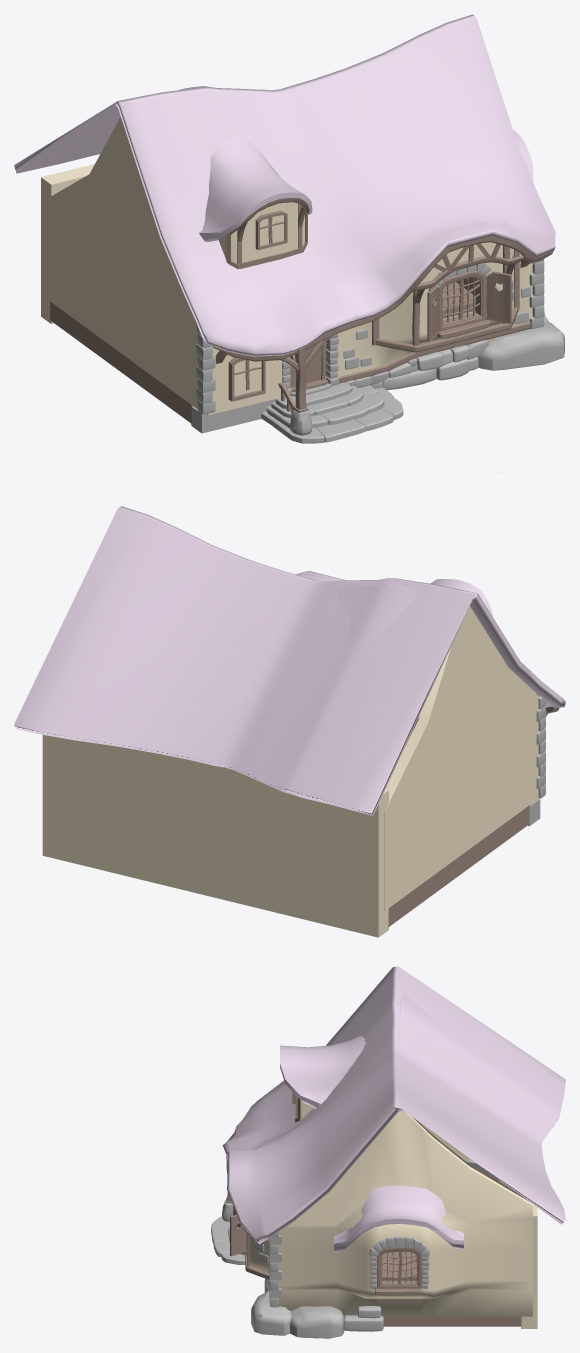
Rendered from house_4.fbx.
3 views of the same model, one above another, from view 1: azimuth 30°, elevation 25°; view 2: azimuth 150°, elevation 25°; view 3: azimuth 270°, elevation 25° (orthographic). The views are drawn at different scales.
Visible parts, largest first — view 1: Roof, pCube28, pCube9, Roof_window_up, pCube111, Cube__2_, pCube25, Step_04, pCube76, Cube__1_, Step_03, Cube__9_ (+12 smaller); view 2: Roof, Cube__1_, pCube28, Cube__2_; view 3: Roof, pCube10, Roof_window_up1, Roof_window_up, pCube112, Cube__2_, pCube111, Window_hinges2, Step_04, Cube__5_, Cube__1_, pCube106 (+1 smaller).
Part boxes in pixels (<box>): Roof: <box>14,14,555,356</box>; pCube28: <box>46,117,197,408</box>; pCube9: <box>207,242,532,415</box>; Roof_window_up: <box>199,137,312,241</box>; pCube111: <box>477,322,564,370</box>; Cube__2_: <box>50,301,192,423</box>; pCube25: <box>218,202,304,263</box>; Step_04: <box>261,387,403,443</box>; pCube76: <box>212,236,552,361</box>; Cube__1_: <box>41,164,94,323</box>; Step_03: <box>266,385,384,428</box>; Cube__9_: <box>191,398,276,433</box>; Roof: <box>14,506,565,815</box>; Cube__1_: <box>42,735,388,937</box>; pCube28: <box>384,606,538,910</box>; Cube__2_: <box>388,805,529,927</box>; Roof: <box>222,966,565,1244</box>; pCube10: <box>279,1111,532,1316</box>; Roof_window_up1: <box>334,1185,463,1252</box>; Roof_window_up: <box>280,1035,366,1108</box>; pCube112: <box>290,1306,344,1338</box>; Cube__2_: <box>384,1190,522,1326</box>; pCube111: <box>251,1291,291,1335</box>; Window_hinges2: <box>377,1247,422,1288</box>; Step_04: <box>211,1216,245,1264</box>; Cube__5_: <box>382,1251,416,1280</box>; Cube__1_: <box>521,1204,537,1328</box>; pCube106: <box>344,1315,384,1331</box>.
Bounding box in the file's own units: 11.62 × 7.96 × 17.54.
